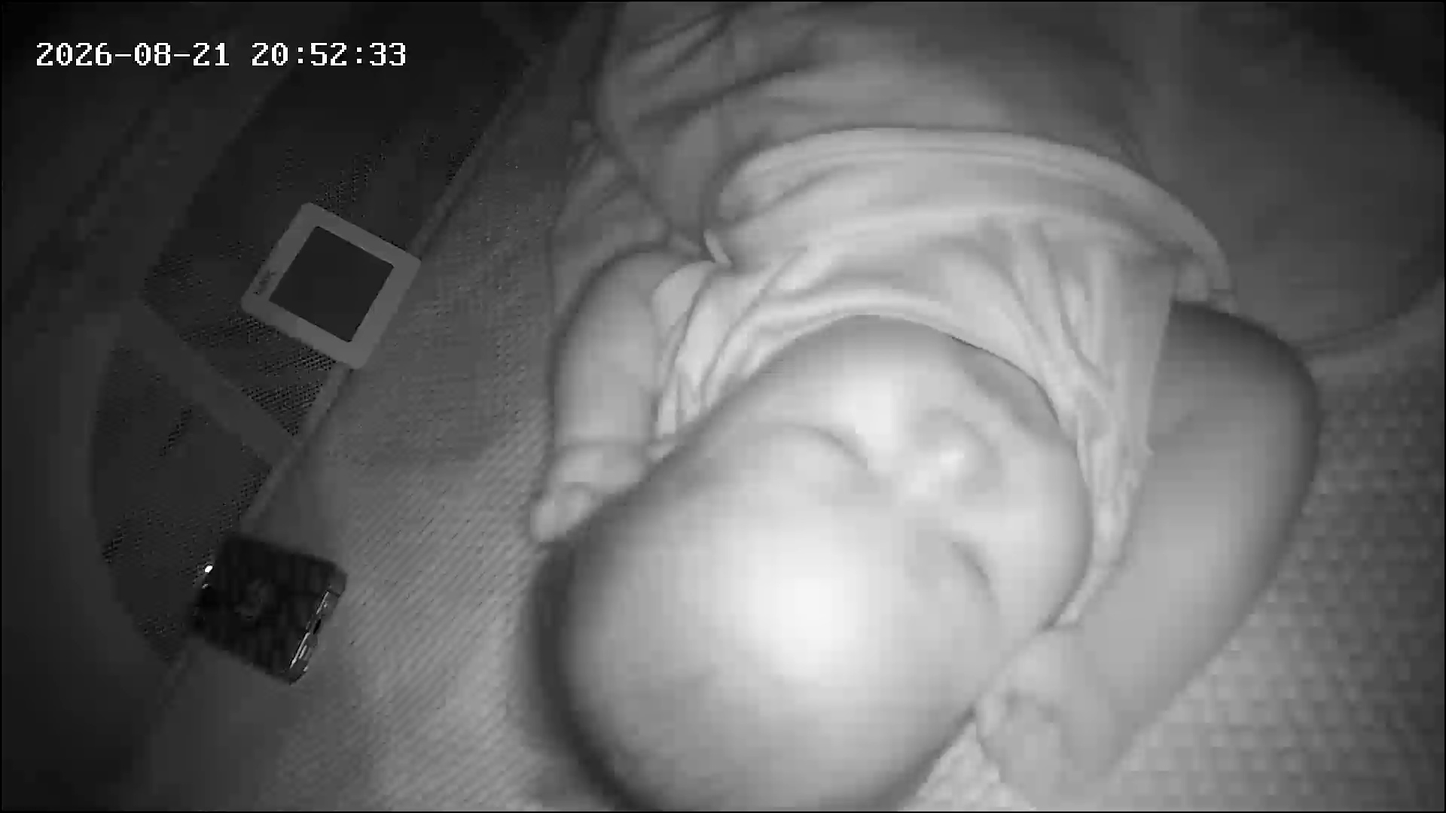baby: (509, 1, 1377, 812)
baby_face: (513, 315, 1101, 807)
